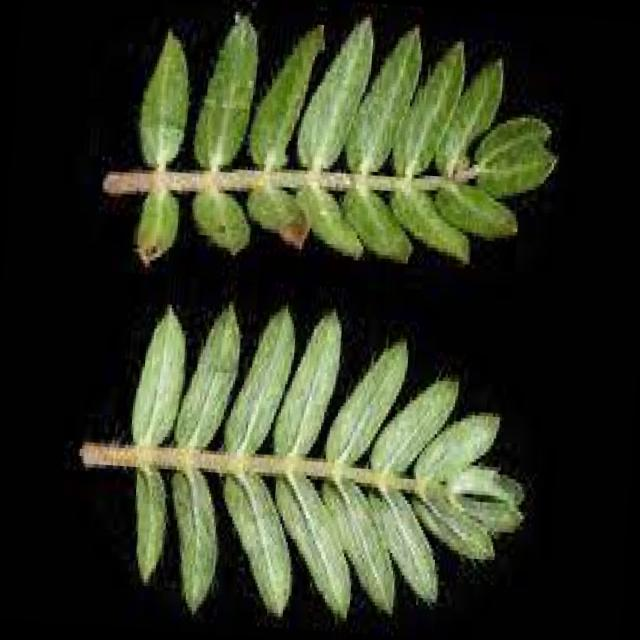Gokharu: (60, 259, 597, 640), (96, 16, 566, 284)
